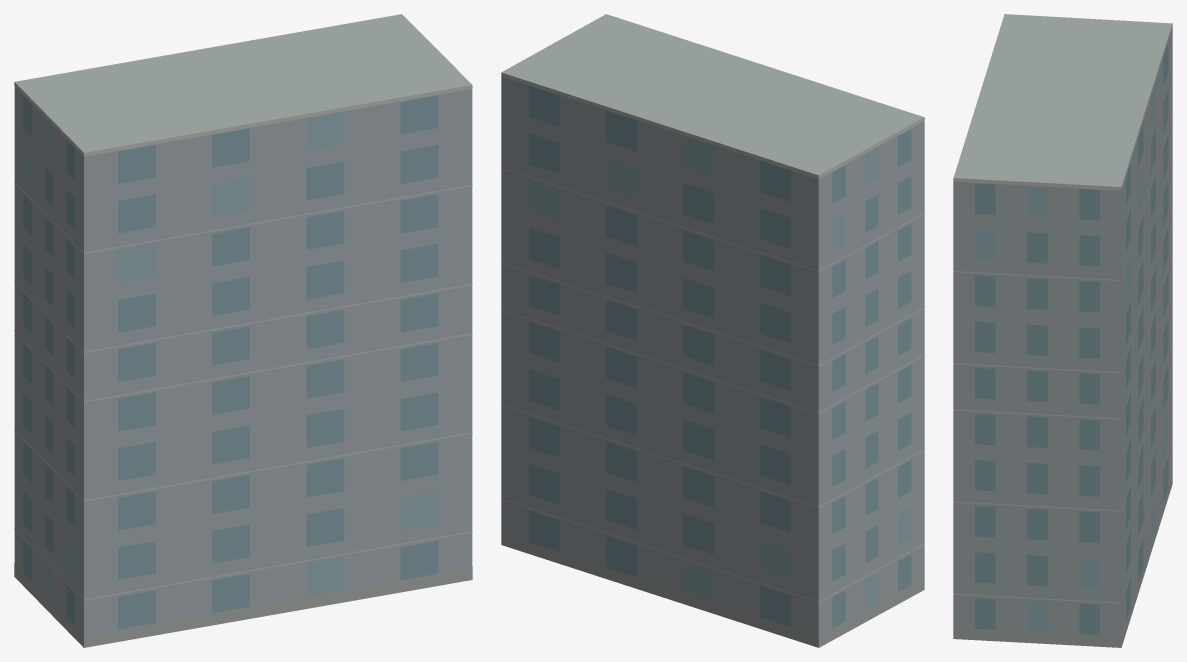
File: residential-b8863b37-6da5-4016-834a-b81b883e0c3b.glb
3 views of the same model, side by side, from view 1: azimuth 30°, elevation 25°; view 2: azimuth 150°, elevation 25°; view 3: azimuth 270°, elevation 25° (orthographic). The views are drawn at different scales.
Visible parts, largest first — view 1: residential-b8863b37-6da5-4016-834a-b81b883e0c3b.tmp; view 2: residential-b8863b37-6da5-4016-834a-b81b883e0c3b.tmp; view 3: residential-b8863b37-6da5-4016-834a-b81b883e0c3b.tmp.
Part boxes in pixels (box(x1,y1,x2,y2)): residential-b8863b37-6da5-4016-834a-b81b883e0c3b.tmp: box(14, 14, 472, 647); residential-b8863b37-6da5-4016-834a-b81b883e0c3b.tmp: box(501, 14, 924, 647); residential-b8863b37-6da5-4016-834a-b81b883e0c3b.tmp: box(953, 14, 1172, 647).
Bounding box in the file's own units: 24.58 × 30.5 × 13.16.
